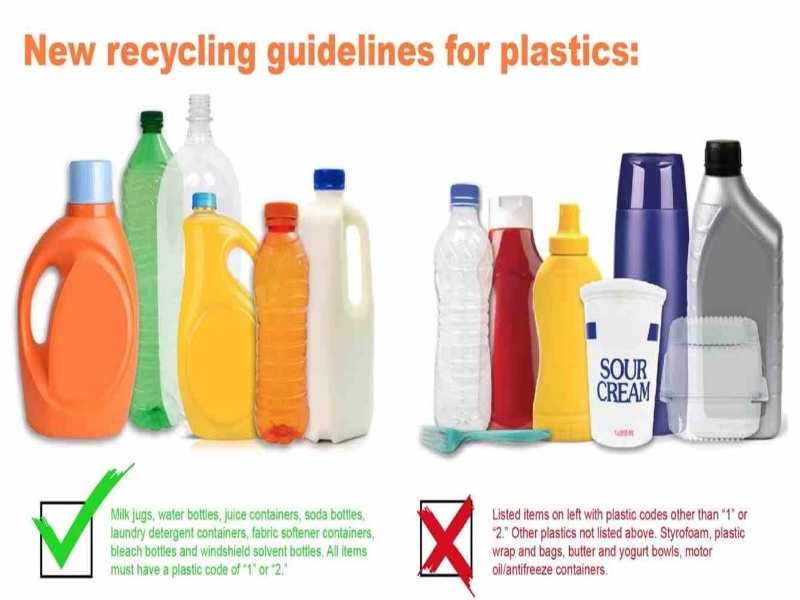Plastic bottle: (406, 172, 518, 452), (235, 199, 336, 471)
